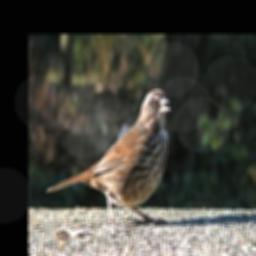Sparrow: (44, 84, 173, 233)
